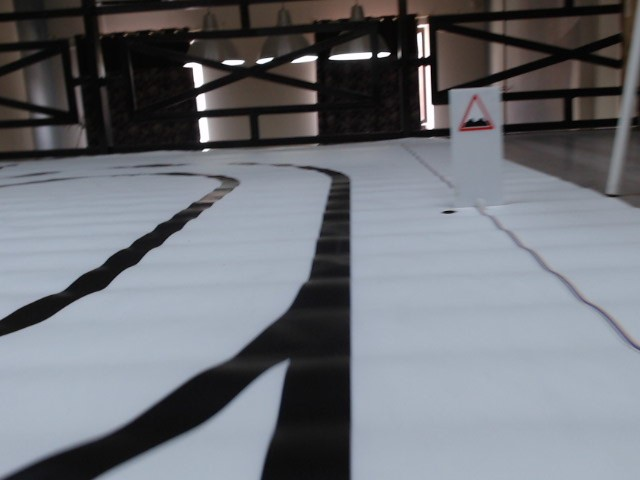Nerov: (457, 93, 496, 133)
